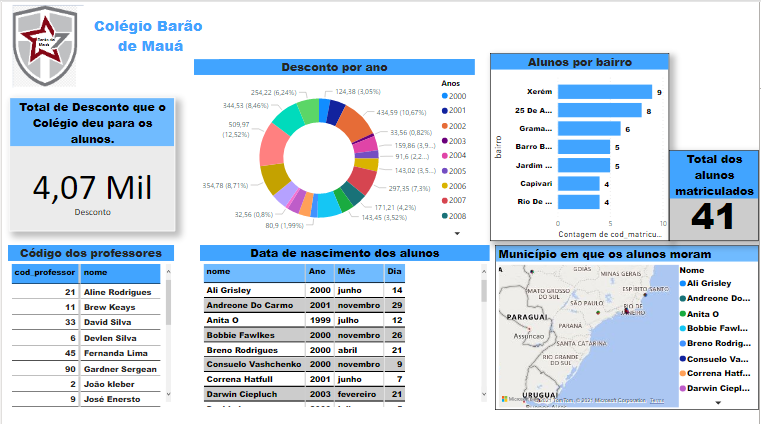

The dashboard page shown, as its layout file describes it:
{"tool":"powerbi","page":{"name":"Página 1","canvas":[1280,720],"ordinal":0},"visuals":[{"type":"tableEx","title":"Código dos professores","fields":{"Values":["Sum(professor.cod_professor)","professor.nome"]},"box":[10.1,410.9,280.7,279],"z":0},{"type":"map","title":"Município em que os alunos moram","fields":{"Series":["alunos.nome"],"Category":["alunos.bairro"]},"box":[833.6,411.4,446.4,279.1],"z":1000},{"type":"card","title":"Total de Desconto que o Colégio deu para os alunos.","fields":{"Values":["Sum(matricula.desconto)"]},"box":[11.8,160.6,280.7,226.6],"z":2000},{"type":"tableEx","title":"Data de nascimento dos alunos","fields":{"Values":["alunos.nome","alunos.dat_nascimento.Variation.Hierarquia de datas.Ano","alunos.dat_nascimento.Variation.Hierarquia de datas.Mês","alunos.dat_nascimento.Variation.Hierarquia de datas.Dia"]},"box":[334.6,411.4,490.2,279.1],"z":3000},{"type":"image","box":[0,0,155.6,150.5],"z":4000},{"type":"donutChart","title":"Desconto por ano","fields":{"Y":["Sum(matricula.desconto)"],"Category":["matricula.dt_matricula.Variation.Hierarquia de datas.Ano","matricula.dt_matricula.Variation.Hierarquia de datas.Trimestre","matricula.dt_matricula.Variation.Hierarquia de datas.Mês","matricula.dt_matricula.Variation.Hierarquia de datas.Dia"]},"box":[324,96,475,308],"z":5000},{"type":"barChart","title":"Alunos por bairro","fields":{"Category":["alunos.bairro"],"Y":["Count(alunos.cod_matricula)"]},"box":[825.2,86.2,302.7,317.9],"z":6000},{"type":"textbox","box":[135.3,18.6,231.7,77.8],"z":7000},{"type":"card","title":"Total dos alunos matriculados","fields":{"Values":["Min(alunos.número de alunos matriculados)"]},"box":[1127.8,250.3,152.2,153.9],"z":8000}]}

Visuals, with their boxes in screenshot pixels (x1, y1, x2, y2), scaled from the page's 1280x720 canvas onto the 761x424 screenshot:
"Código dos professores" tableEx: 6 242 173 406
"Município em que os alunos moram" map: 496 242 760 407
"Total de Desconto que o Colégio deu para os alunos." card: 7 95 174 228
"Data de nascimento dos alunos" tableEx: 199 242 490 407
image: 0 0 93 89
"Desconto por ano" donutChart: 193 57 475 238
"Alunos por bairro" barChart: 491 51 671 238
textbox: 80 11 218 57
"Total dos alunos matriculados" card: 671 147 760 238
